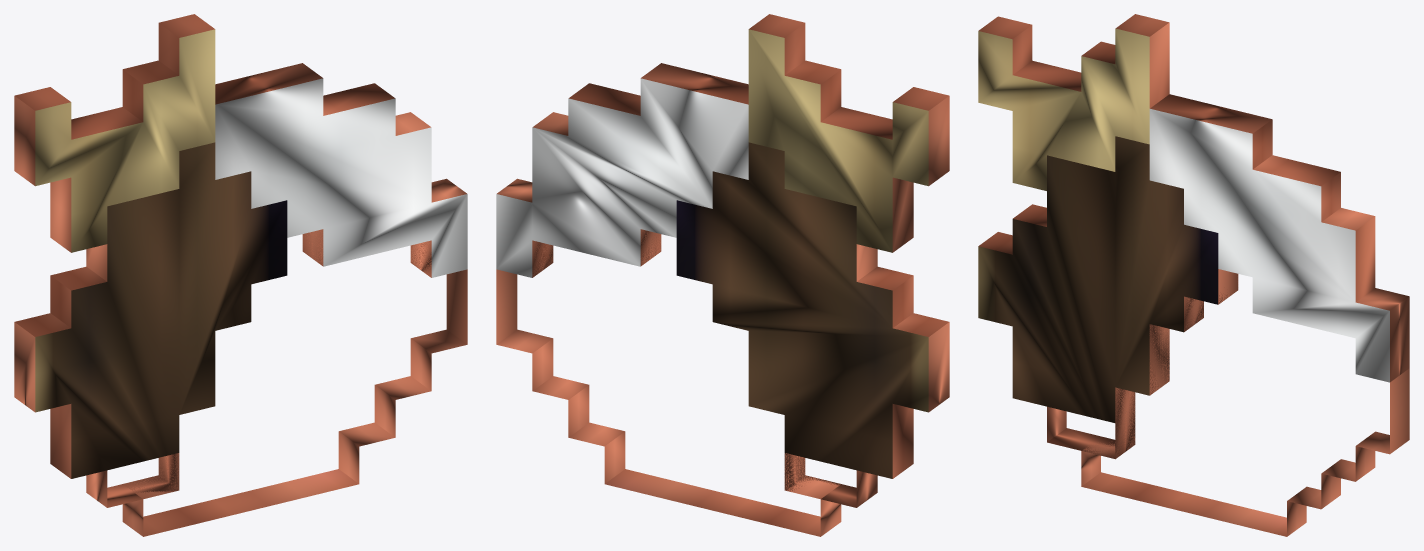
Rendered from 紫颂果.obj.
3 renders of one model, left to right at view 1: azimuth 30°, elevation 25°; view 2: azimuth 150°, elevation 25°; view 3: azimuth 330°, elevation 25°, orthographic. The views are drawn at different scales.
Visible parts, largest first — view 1: mesh_mask_3, mesh_mask_2, mesh_mask_1, mesh_mask_4; view 2: mesh_mask_3, mesh_mask_2, mesh_mask_1, mesh_mask_4; view 3: mesh_mask_3, mesh_mask_2, mesh_mask_1, mesh_mask_4.
Part boxes in pixels (x1=…): mesh_mask_3: x1=14, y1=142, x2=287, y2=507; mesh_mask_2: x1=215, y1=63, x2=467, y2=277; mesh_mask_1: x1=14, y1=14, x2=215, y2=252; mesh_mask_4: x1=122, y1=230, x2=467, y2=536; mesh_mask_3: x1=676, y1=142, x2=949, y2=507; mesh_mask_2: x1=496, y1=63, x2=748, y2=277; mesh_mask_1: x1=748, y1=14, x2=949, y2=252; mesh_mask_4: x1=496, y1=230, x2=841, y2=536; mesh_mask_3: x1=978, y1=136, x2=1238, y2=458; mesh_mask_2: x1=1149, y1=94, x2=1409, y2=382; mesh_mask_1: x1=978, y1=14, x2=1169, y2=190; mesh_mask_4: x1=1081, y1=274, x2=1409, y2=536.
Bounding box in the file's own units: 12 × 13 × 1.
1 material, 1 textured.
